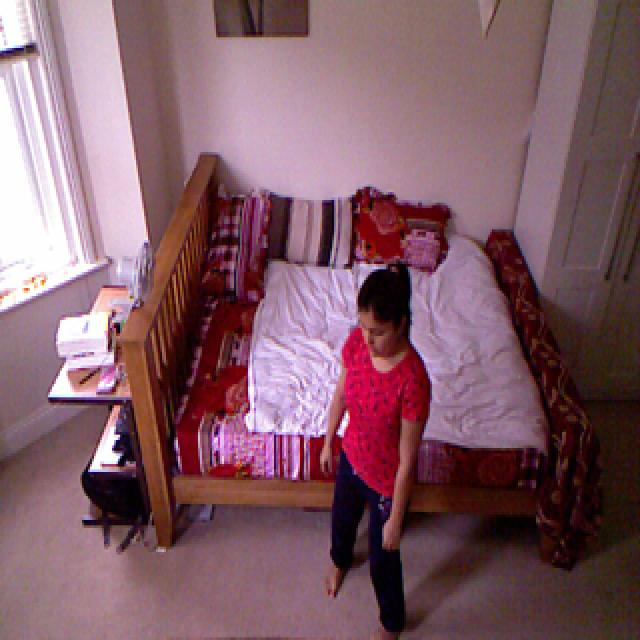standing: (327, 228, 433, 631)
